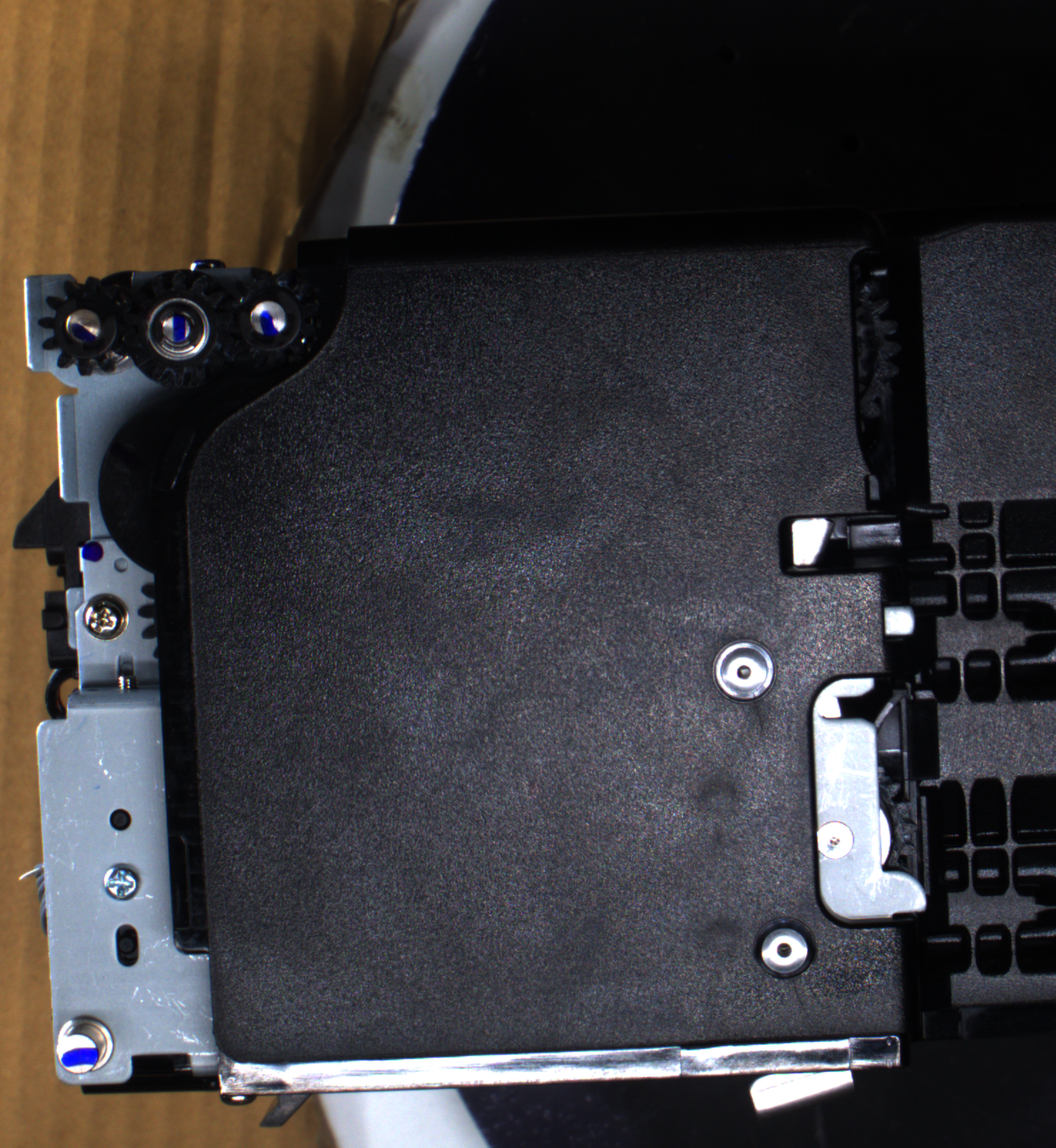centre_pin_presence: (743, 1048, 860, 1118)
centre_plate_presence: (806, 668, 938, 933)
centre_screw_presence: (709, 632, 781, 708), (748, 910, 820, 985)
gear1_presence: (37, 274, 136, 379)
gear2_presence: (120, 269, 234, 388)
gear3_presence: (217, 268, 319, 373)
side_screw_presence: (79, 591, 131, 642), (100, 858, 143, 901)
slanting_pin_presence: (50, 1011, 123, 1083)
